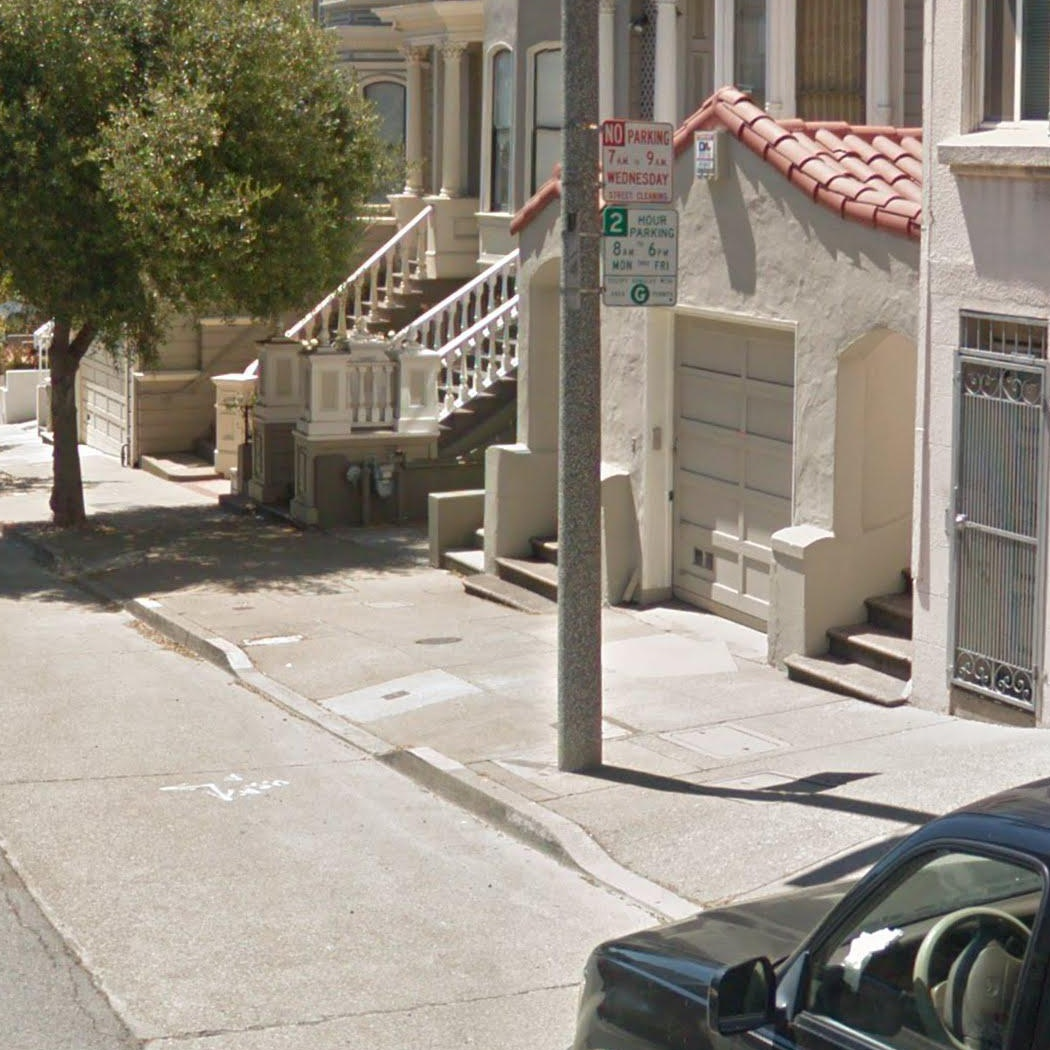2 Hour Parking: (598, 205, 681, 309)
No Parking: (597, 117, 675, 206)
